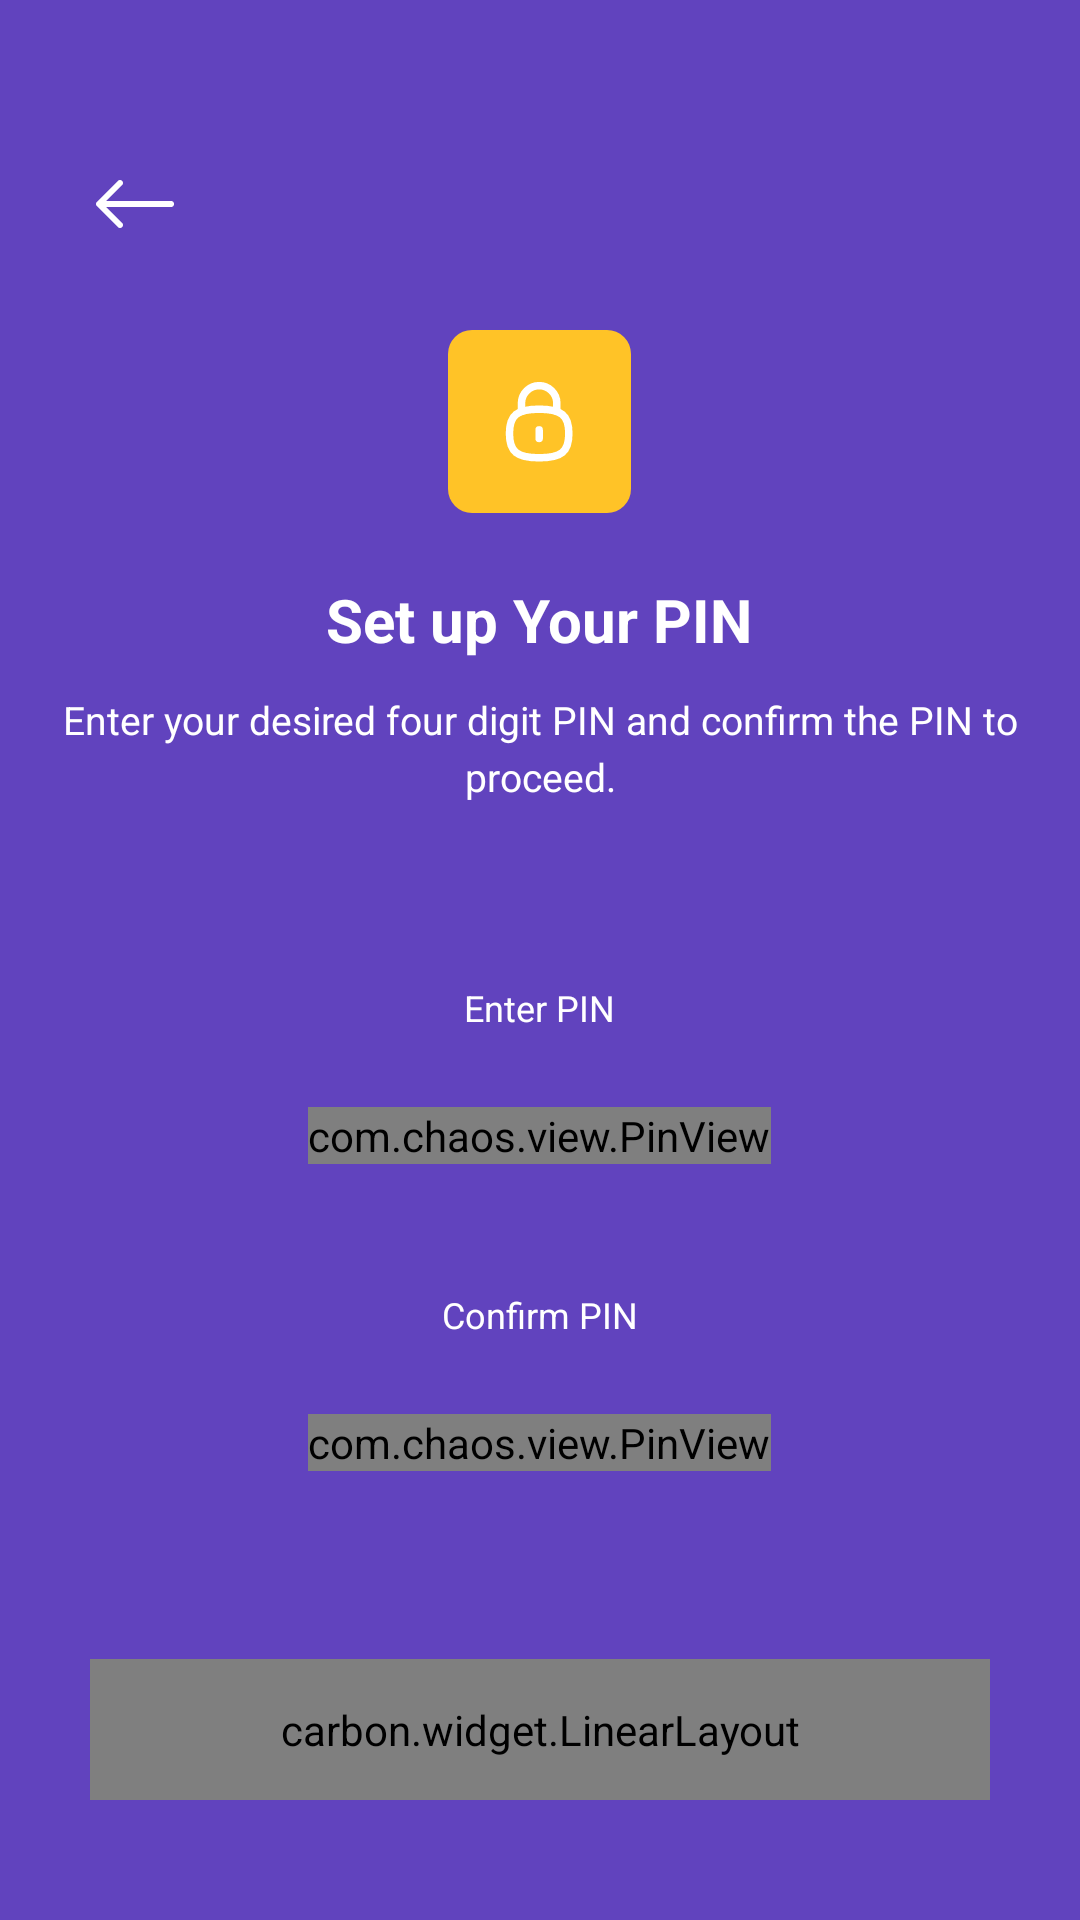

Point at icon controls on the screen. Image size 1080×1920, points as (x=x, y=y).
arrow left: (x=135, y=204)
pin lock: (x=539, y=421)
